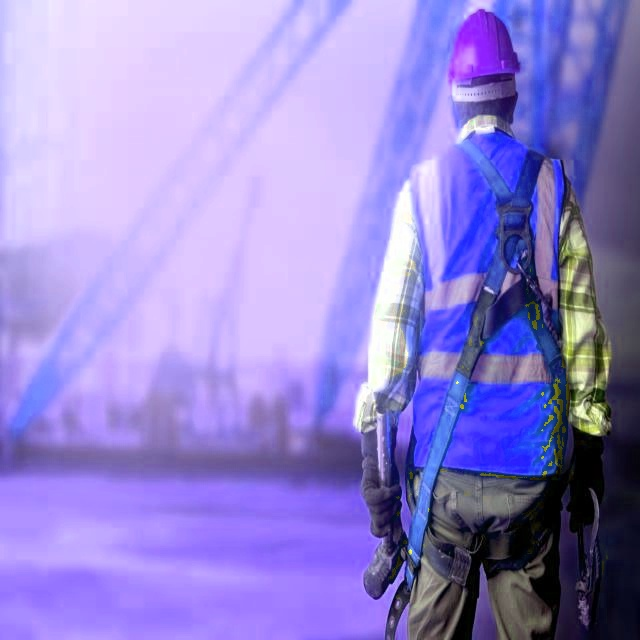safety belt: (396, 164, 587, 551)
